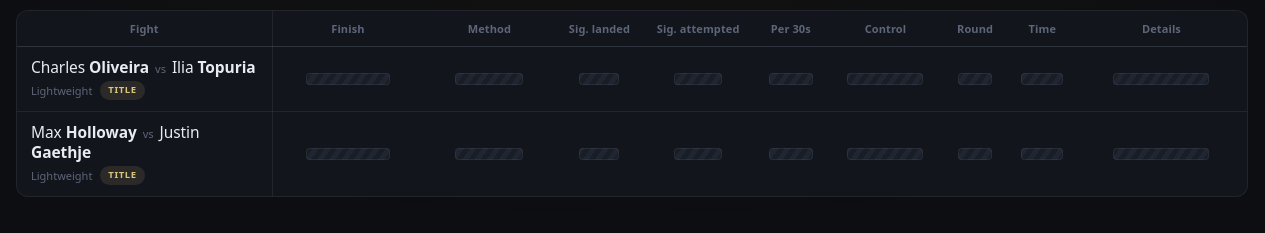
Test: reveal-all via the Fight header › a fully revealed table reseals on the second click
Click the button with aria-label "reveal every detail for all fights" at (144, 28), box [17,11,272,46]
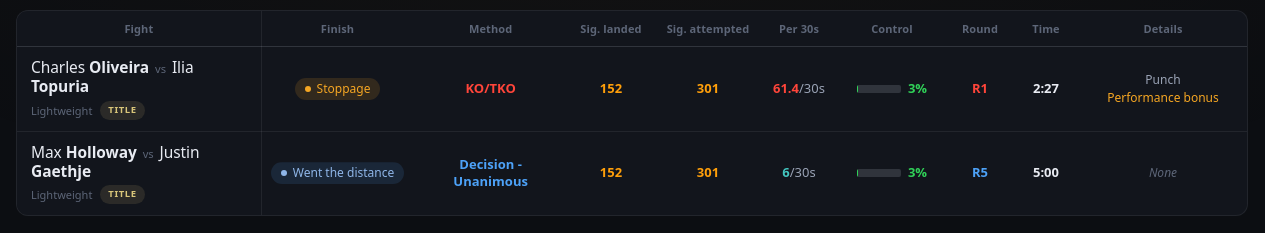
Click the button with aria-label "hide every detail for all fights" at (139, 28), box [17,11,261,46]
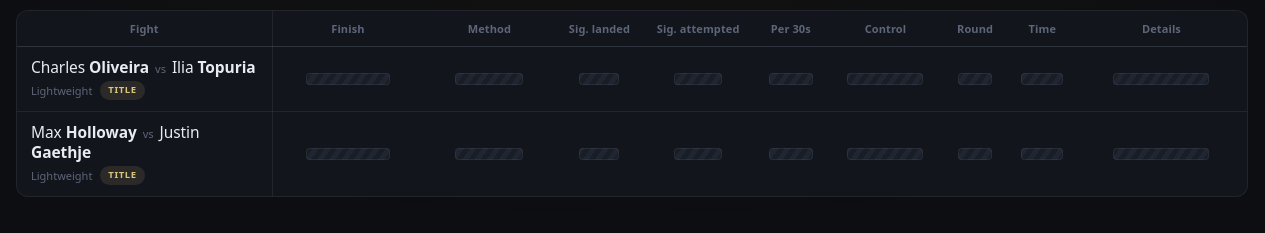
Now the text "KO/TKO" is gone
Now the text "Decision" is gone
Now the text "5:00" is gone
